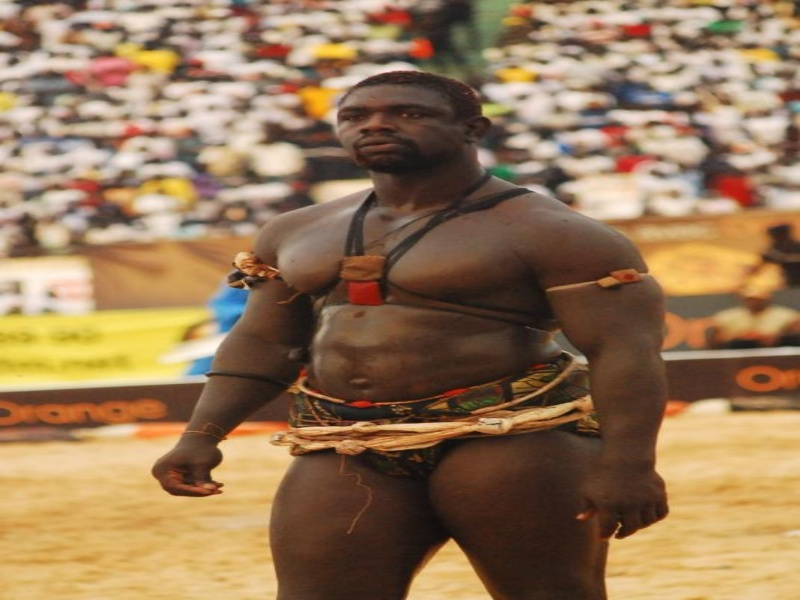face: (335, 80, 491, 176)
